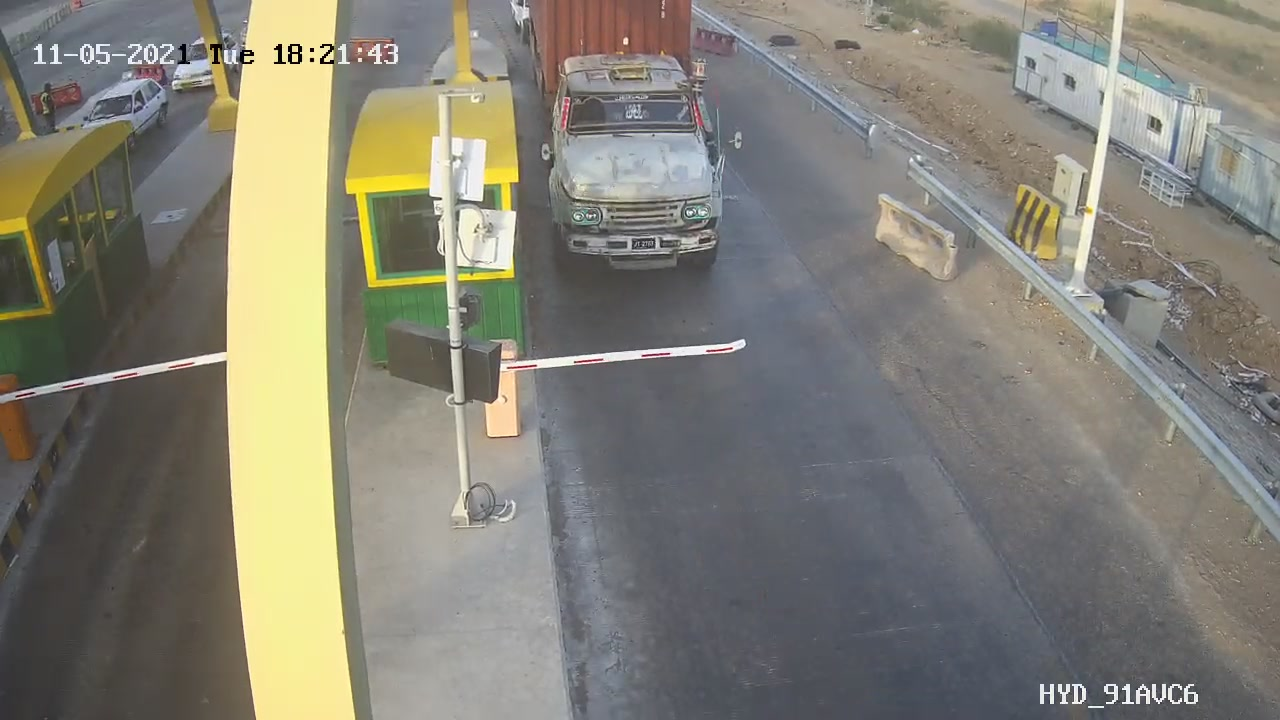F6: (517, 1, 755, 277)
